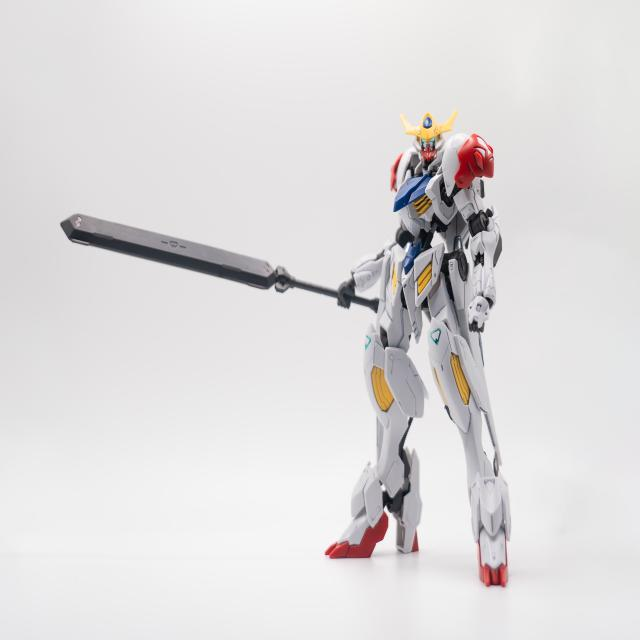Plastic: (59, 110, 512, 588)
